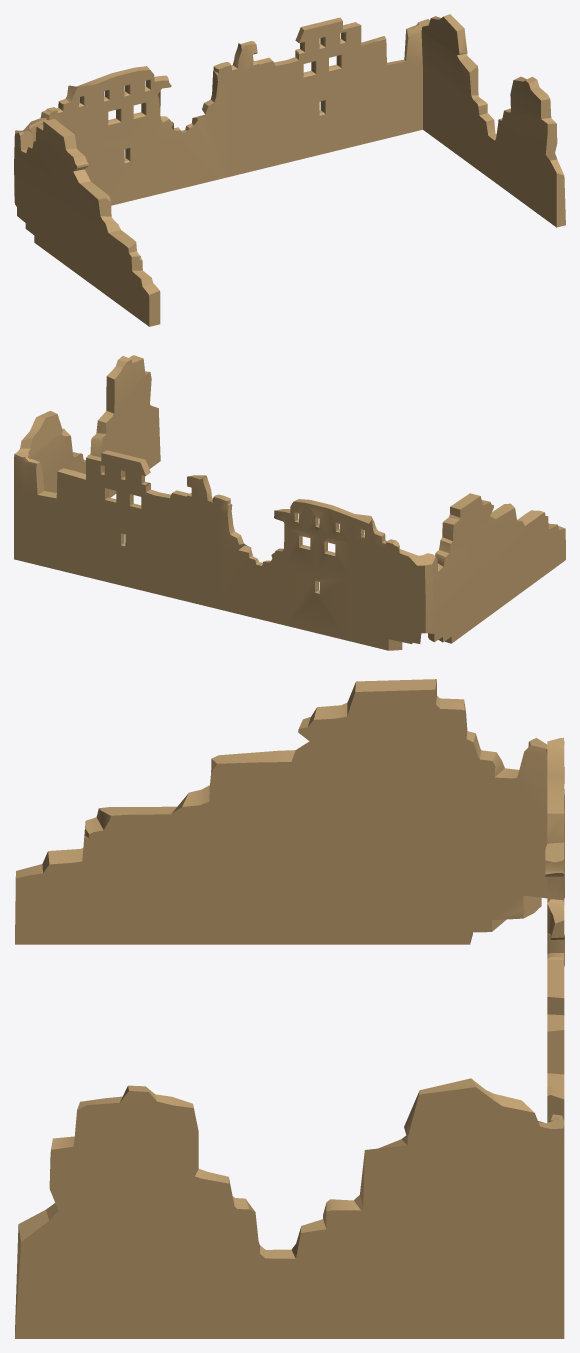
The model's file is Ruins_BigBuilding_half.fbx.
3 views of the same model, one above another, from view 1: azimuth 30°, elevation 25°; view 2: azimuth 150°, elevation 25°; view 3: azimuth 270°, elevation 25° (orthographic). The views are drawn at different scales.
Parts seen in each view (by area): view 1: BigHalfBuilding; view 2: BigHalfBuilding; view 3: BigHalfBuilding.
Part boxes in pixels (<box>): BigHalfBuilding: <box>14,14,565,326</box>; BigHalfBuilding: <box>14,355,565,650</box>; BigHalfBuilding: <box>15,679,564,1338</box>.
Size of the model in its own units: 2357 by 692 by 1351.
